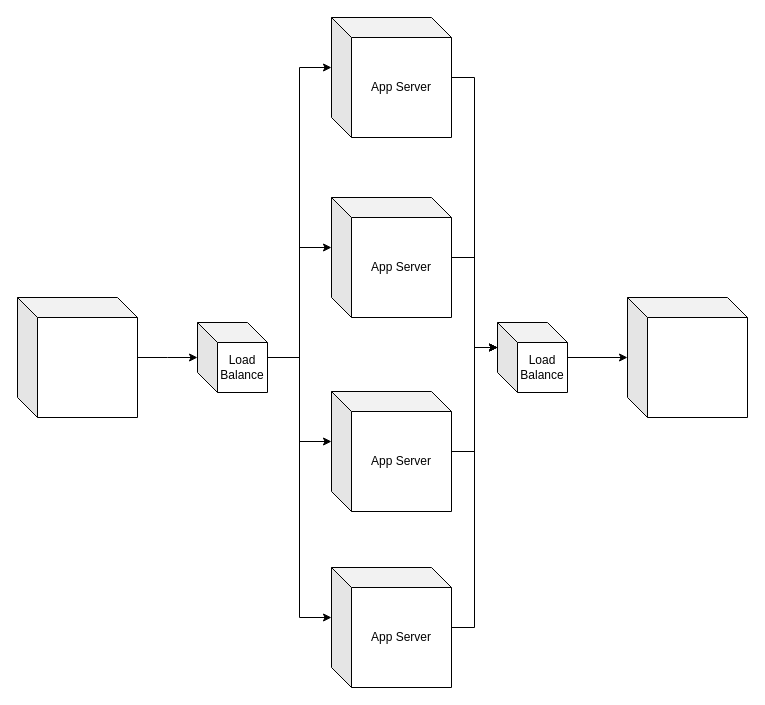
The diagram is 765 pixels wide and 705 high, and some of its shapes have lost their labels. Each missing label, with the centre of its shape:
Database: point 687,357
Web Server: point 77,357
